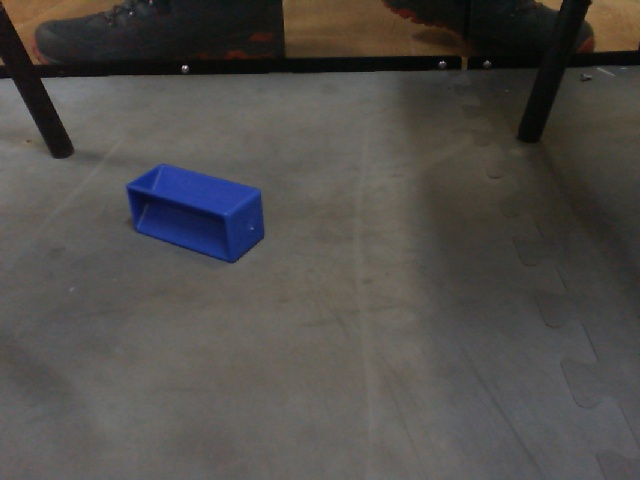BlueSample: (124, 159, 269, 269)
